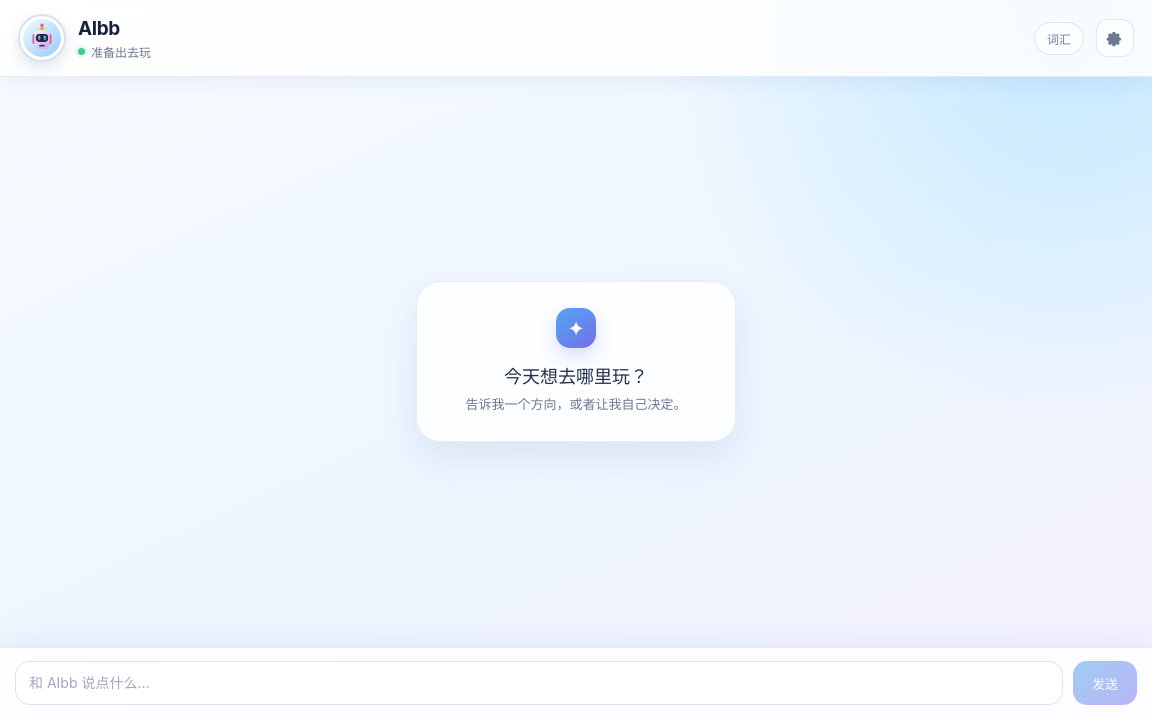
ChatPanel › keeps a completion that arrives before the exploration-start response
Type "去海里玩" into the text box named "消息" at (539, 683), box [15,661,1063,705]
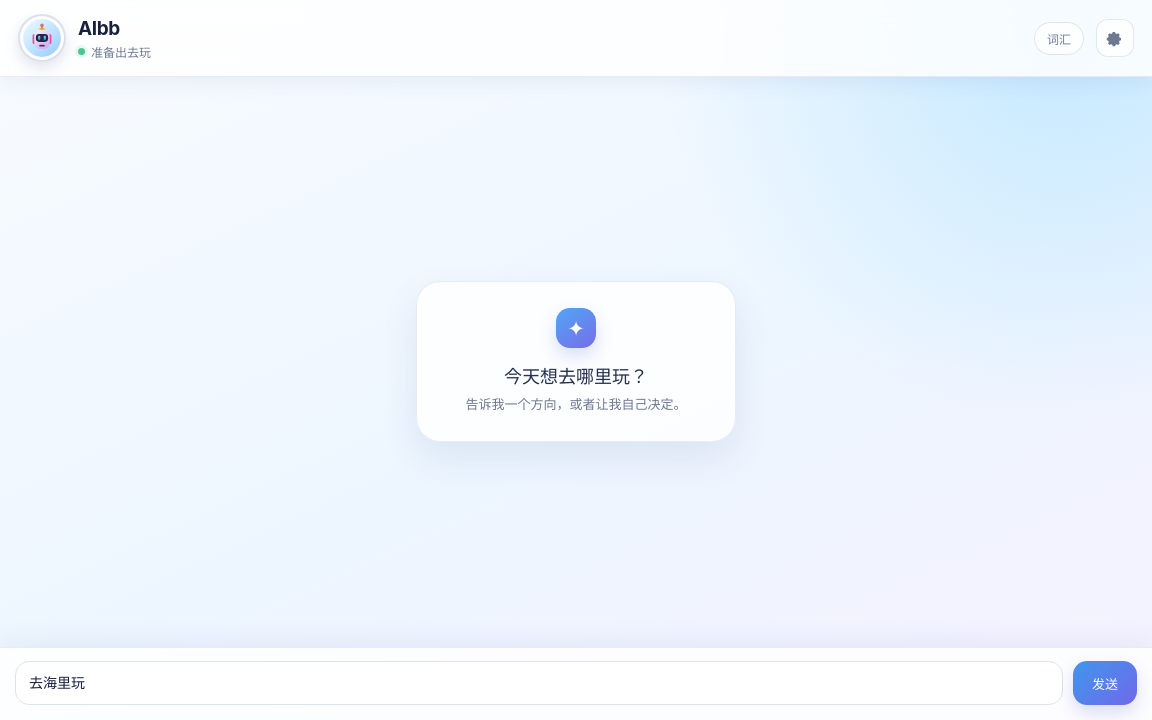
Press Enter in the text box named "消息", box [15,661,1063,705]
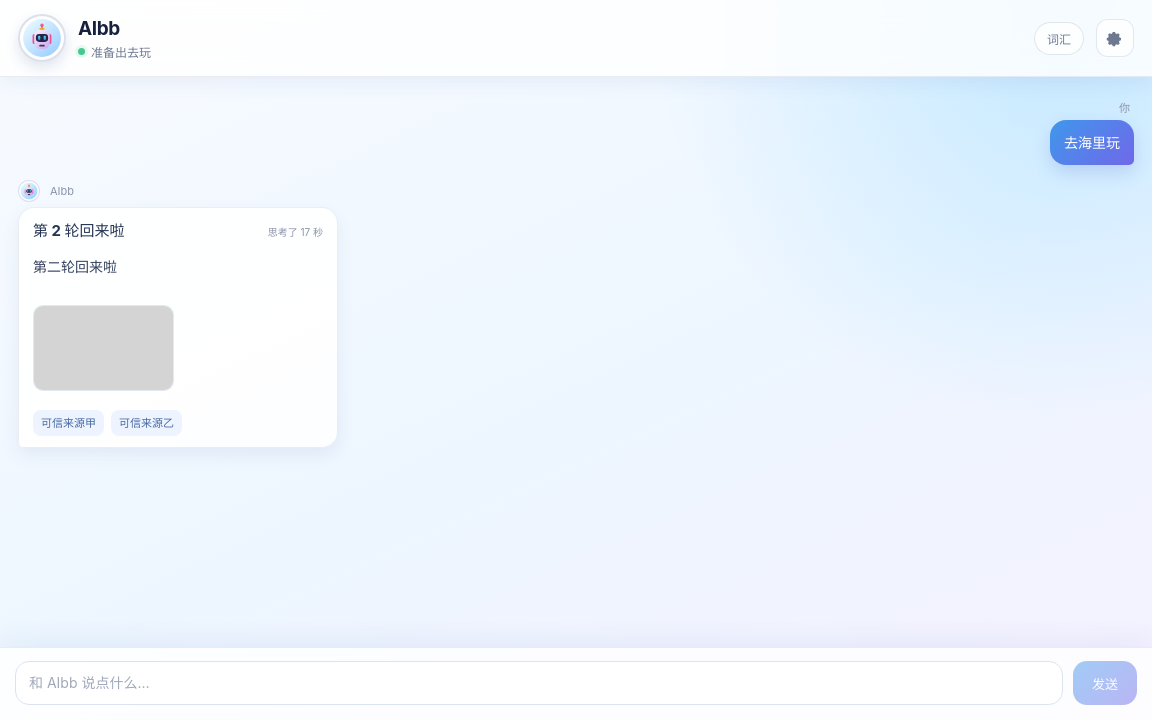
Expected: the heading "第 2 轮回来啦" is shown, [33,219,125,244]
